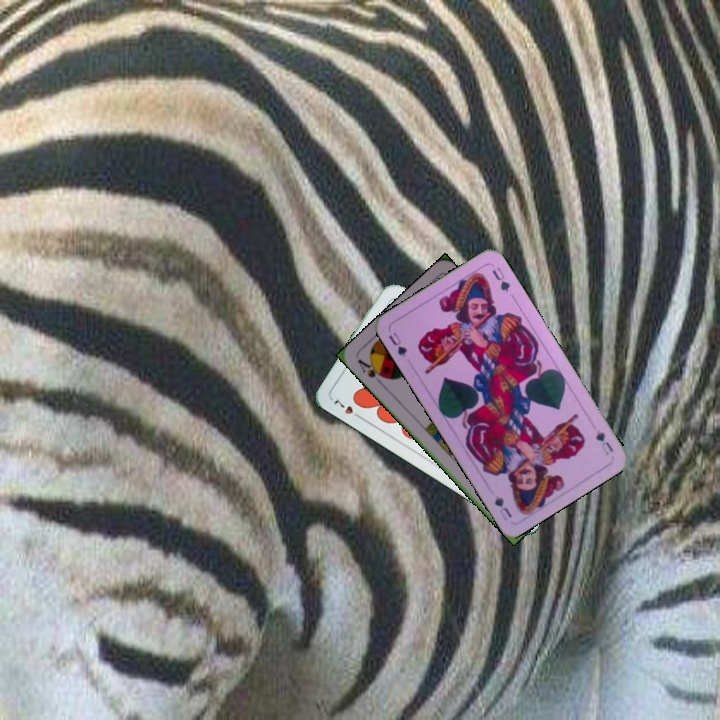GU: (384, 328, 410, 360), (592, 426, 616, 458)
H7: (330, 395, 365, 421)
SA: (353, 355, 390, 388)
